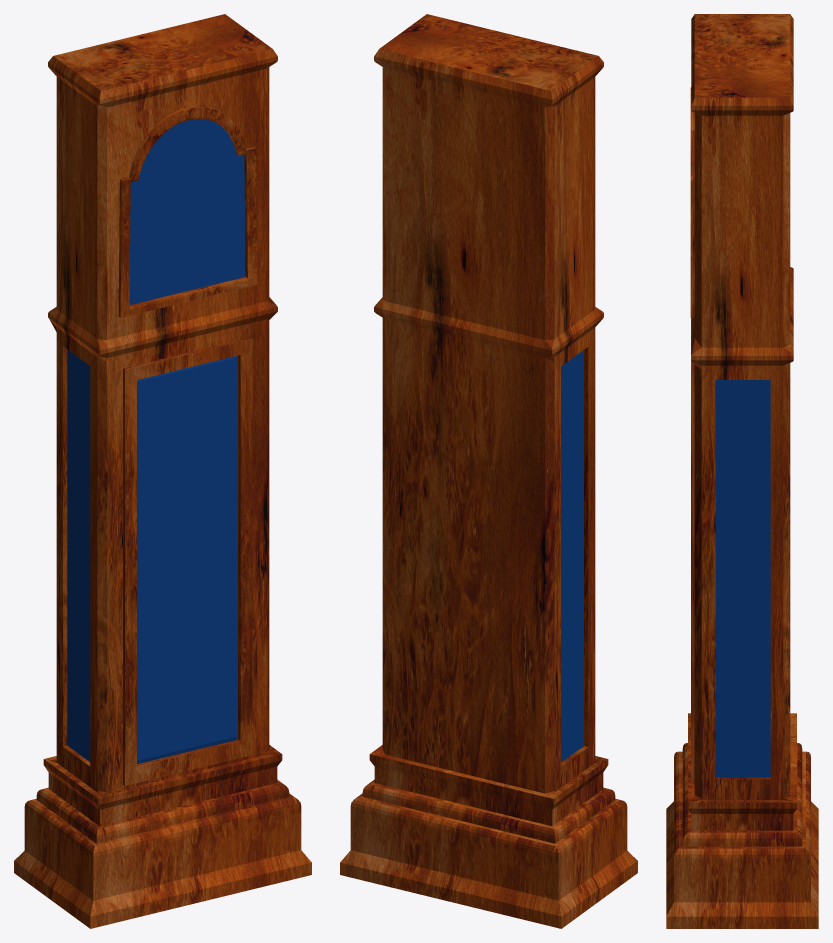
Rendered from Granfather Clock.obj.
The picture shows the model from 3 angles, left to right: view 1: azimuth 30°, elevation 25°; view 2: azimuth 150°, elevation 25°; view 3: azimuth 270°, elevation 25°; orthographic projection.
Visible parts, largest first — view 1: Grandfather_clock, front_door_glass, top_door_glass, front_door, side_glass02, top_door; view 2: Grandfather_clock, side_glass02; view 3: Grandfather_clock, side_glass01, front_door, top_door.
Boxes of the visible parts, x1,y1,x2,y2 form: Grandfather_clock: (14,14,311,928); front_door_glass: (137,355,237,764); top_door_glass: (129,119,245,304); front_door: (123,337,252,785); side_glass02: (67,349,90,761); top_door: (118,106,257,317); Grandfather_clock: (340,14,637,928); side_glass02: (561,350,583,762); Grandfather_clock: (666,14,818,928); side_glass01: (715,380,770,777); front_door: (691,318,694,783); top_door: (690,87,694,318).
Size of the model in its own units: 37.25 by 132 by 22.25.
